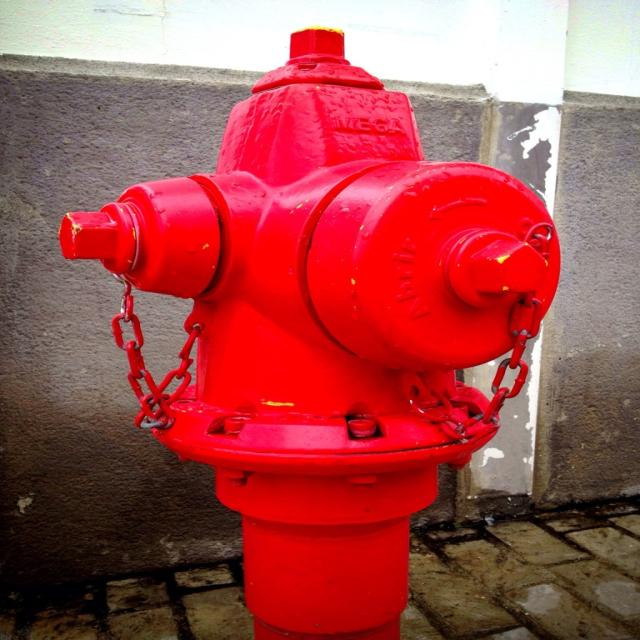fire_hydrant: (58, 26, 560, 640)
